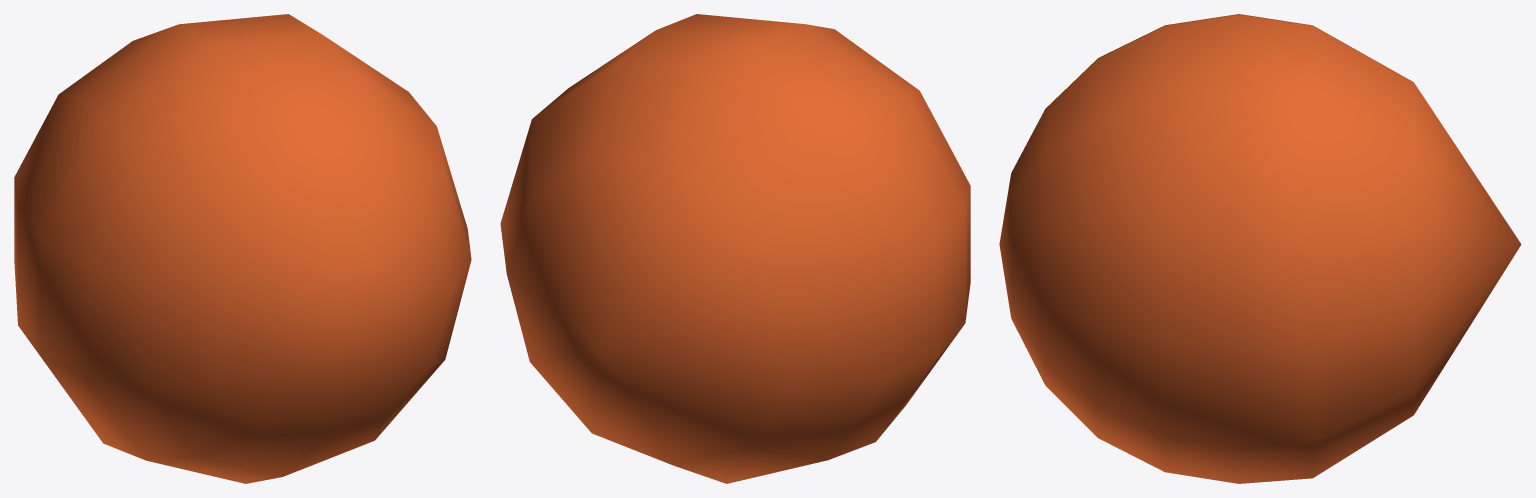
The model's file is foxtail0.obj.
The picture shows the model from 3 angles, left to right: view 1: azimuth 30°, elevation 25°; view 2: azimuth 150°, elevation 25°; view 3: azimuth 270°, elevation 25°; orthographic projection.
Visible parts, largest first — view 1: tail0; view 2: tail0; view 3: tail0.
Part boxes in pixels (x1,y1,x2,y2): tail0: (14, 14, 471, 483); tail0: (500, 14, 970, 483); tail0: (999, 14, 1521, 483).
Bounding box in the file's own units: 0.0482 × 0.0487 × 0.0536.
Materials: 1 (1 with a texture image).
